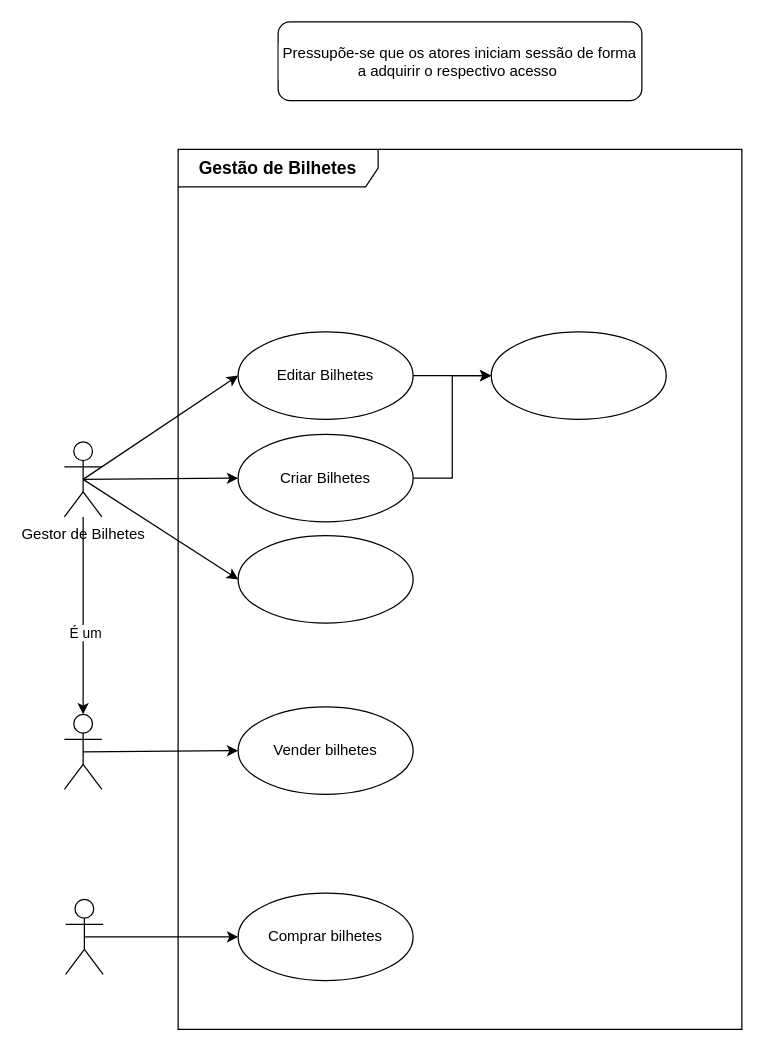
This 764x1051 diagram has some shape labels left out. The shapes that lost their labels are listed below. From the top down, each one's box as (x1, y1, x2, y2) in pixels, then its label:
(490, 331, 666, 419): Preencher/Alterar características do bilhete
(237, 534, 413, 623): Eliminar Bilhetes
(63, 713, 102, 789): Empregado
(64, 898, 103, 974): Cliente
